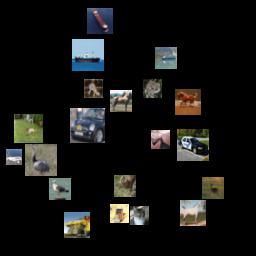airplane: (6, 149, 22, 165)
automobile: (70, 108, 105, 143), (177, 129, 209, 161)
bird: (25, 144, 57, 176), (49, 178, 71, 200)
cat: (151, 130, 170, 149), (130, 206, 149, 225)
deer: (114, 175, 136, 197), (202, 177, 224, 199)
dog: (14, 114, 43, 143)
frog: (84, 79, 103, 98), (143, 79, 162, 98)
ship: (72, 39, 104, 71), (87, 8, 113, 34), (155, 47, 177, 69)
truck: (64, 212, 90, 238), (110, 204, 129, 223)
